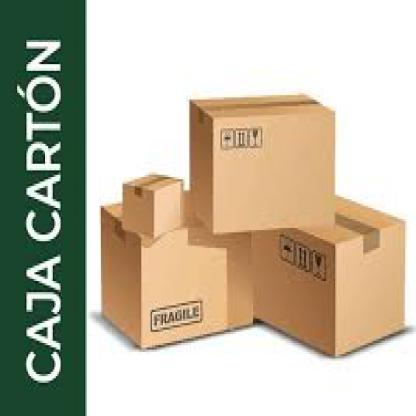paquete: (236, 108, 411, 363), (92, 184, 259, 354), (180, 82, 348, 245), (115, 168, 192, 246)
